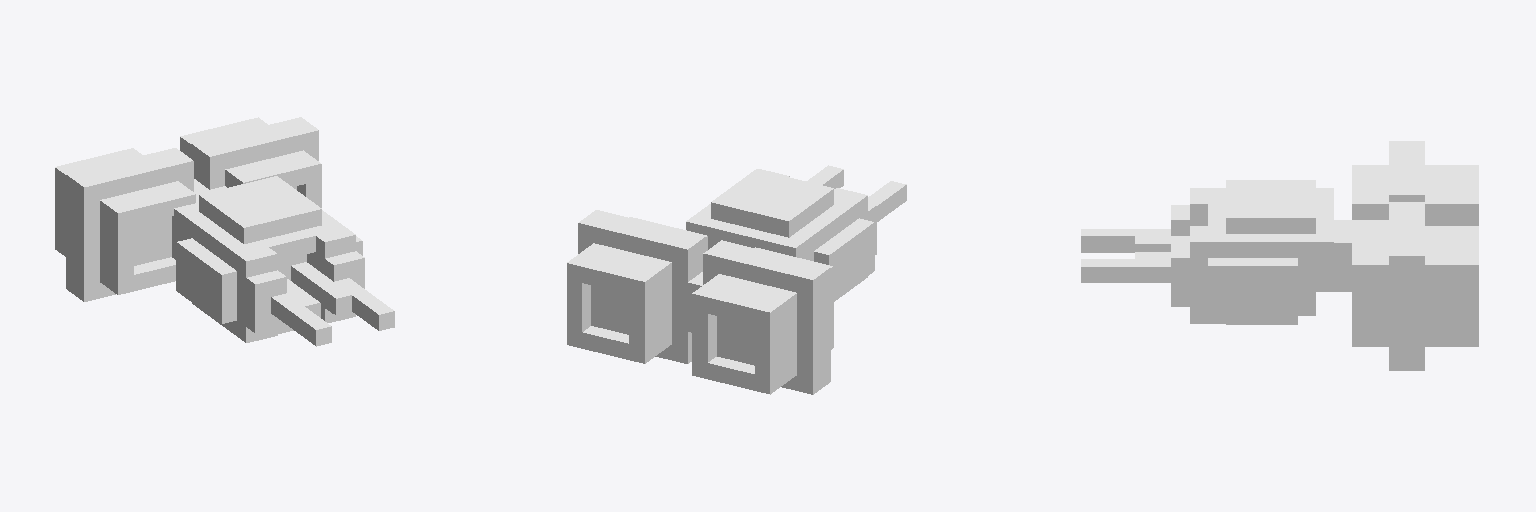
The model's file is EnemyFighter.obj.
3 renders of one model, left to right at view 1: azimuth 30°, elevation 25°; view 2: azimuth 150°, elevation 25°; view 3: azimuth 270°, elevation 25°, orthographic.
Size of the model in its own units: 45 by 21 by 66.